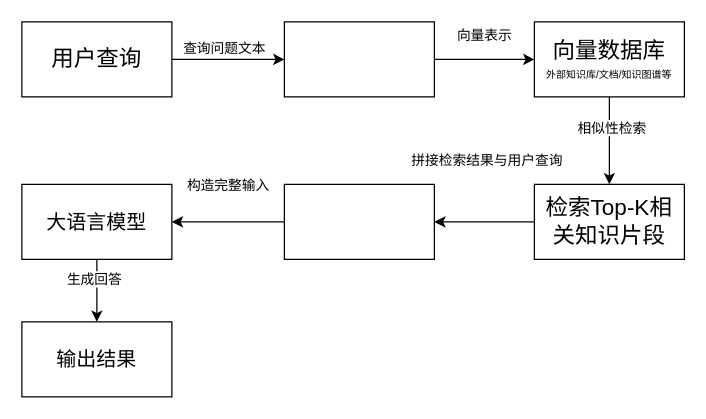
Image size: 706x419. Some labels were removed from this diagram. Here are the shapes that lost their labels. From the top down, the box of each, then its label:
(283, 21, 434, 97): 嵌入模型 BERT、SentenceTransformer等
(283, 183, 434, 259): 提示词模板增强、构造prompt
